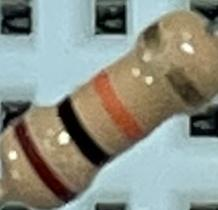Black: (48, 96, 115, 171)
Brown: (10, 115, 85, 207)
Orange: (87, 67, 147, 144)
Side-Gold: (139, 23, 212, 110)
